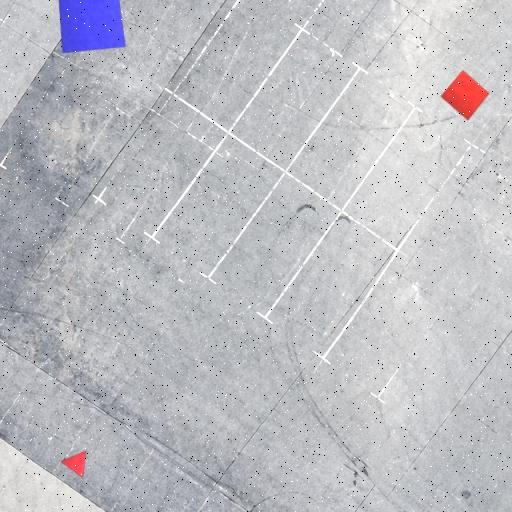BLUE_SQUARE: (58, 0, 126, 54)
RED_SQUARE: (440, 70, 490, 120)
